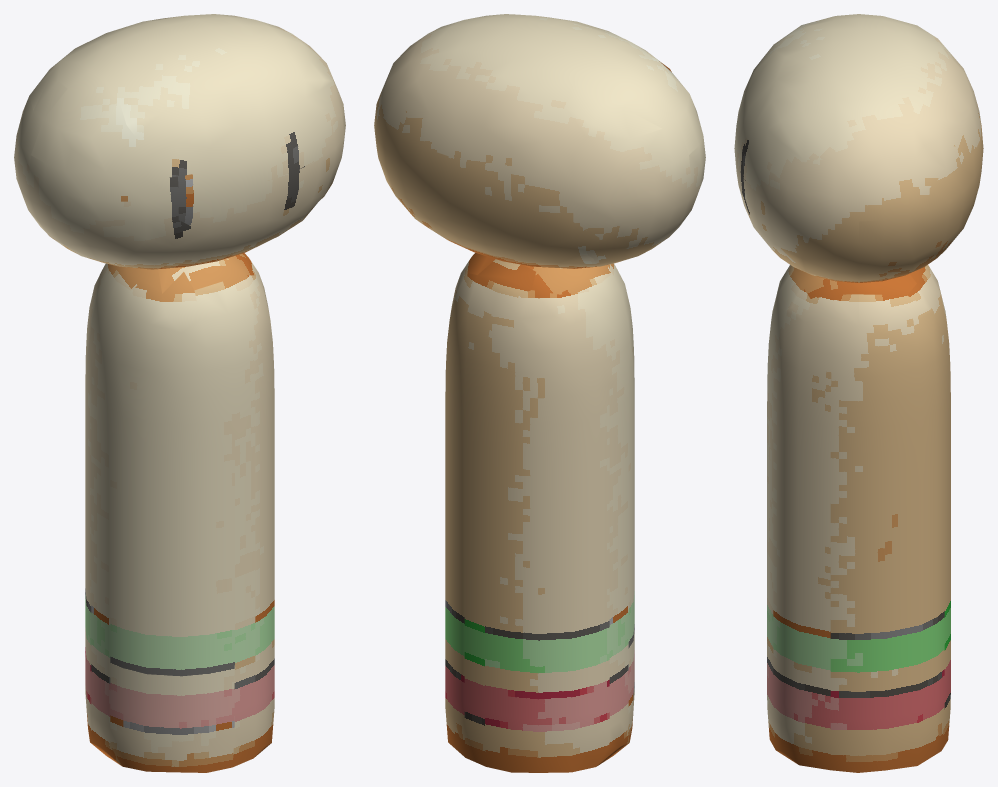
File: kokeshi2.glb
3 renders of one model, left to right at view 1: azimuth 30°, elevation 25°; view 2: azimuth 150°, elevation 25°; view 3: azimuth 270°, elevation 25°, orthographic.
Visible parts, largest first — view 1: mesh; view 2: mesh; view 3: mesh.
Boxes of the visible parts, bbox=[...] form: mesh: bbox=[14, 14, 345, 772]; mesh: bbox=[374, 14, 705, 772]; mesh: bbox=[734, 14, 983, 772].
Bounding box in the file's own units: 0.0808 × 0.18 × 0.0583.
Materials: 1 (1 with a texture image).
